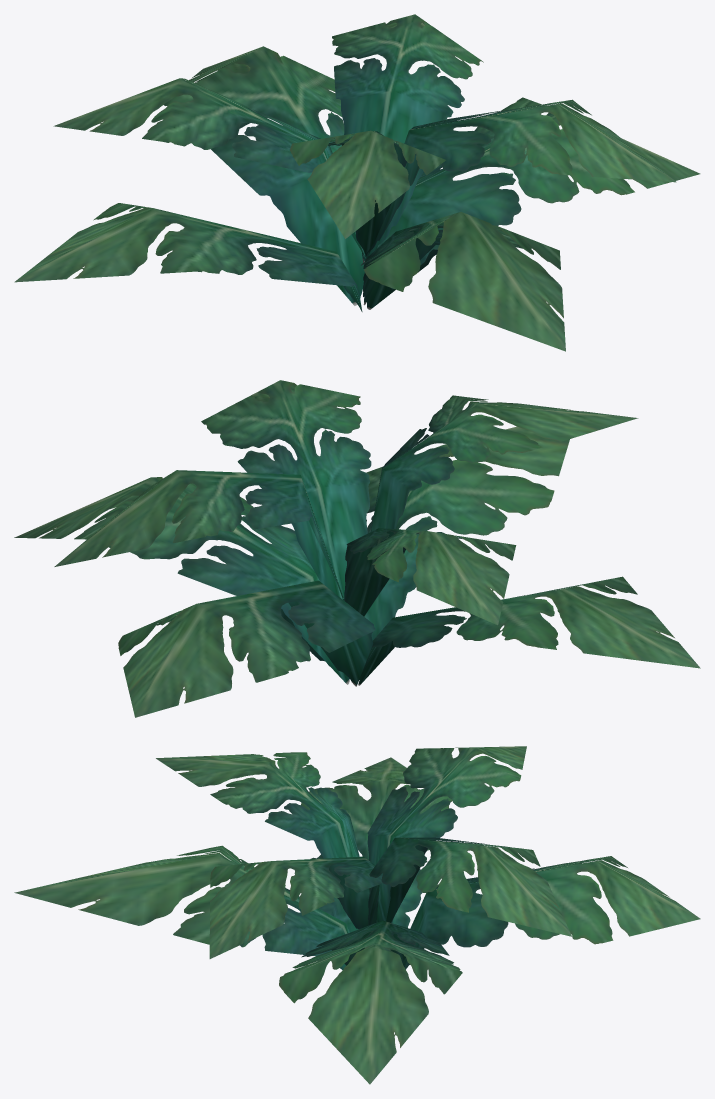
Rendered from Yland3_zb_03 Yland3.FBX.
3 renders of one model, top to bottom at view 1: azimuth 30°, elevation 25°; view 2: azimuth 150°, elevation 25°; view 3: azimuth 270°, elevation 25°, orthographic. The views are drawn at different scales.
Parts seen in each view (by area): view 1: Yland3_zb_03 Yland3; view 2: Yland3_zb_03 Yland3; view 3: Yland3_zb_03 Yland3.
Part boxes in pixels (x1,y1,x2,y2): Yland3_zb_03 Yland3: (14, 14, 700, 351); Yland3_zb_03 Yland3: (14, 380, 700, 717); Yland3_zb_03 Yland3: (14, 746, 700, 1084).
Bounding box in the file's own units: 32.38 × 11.22 × 32.85.
